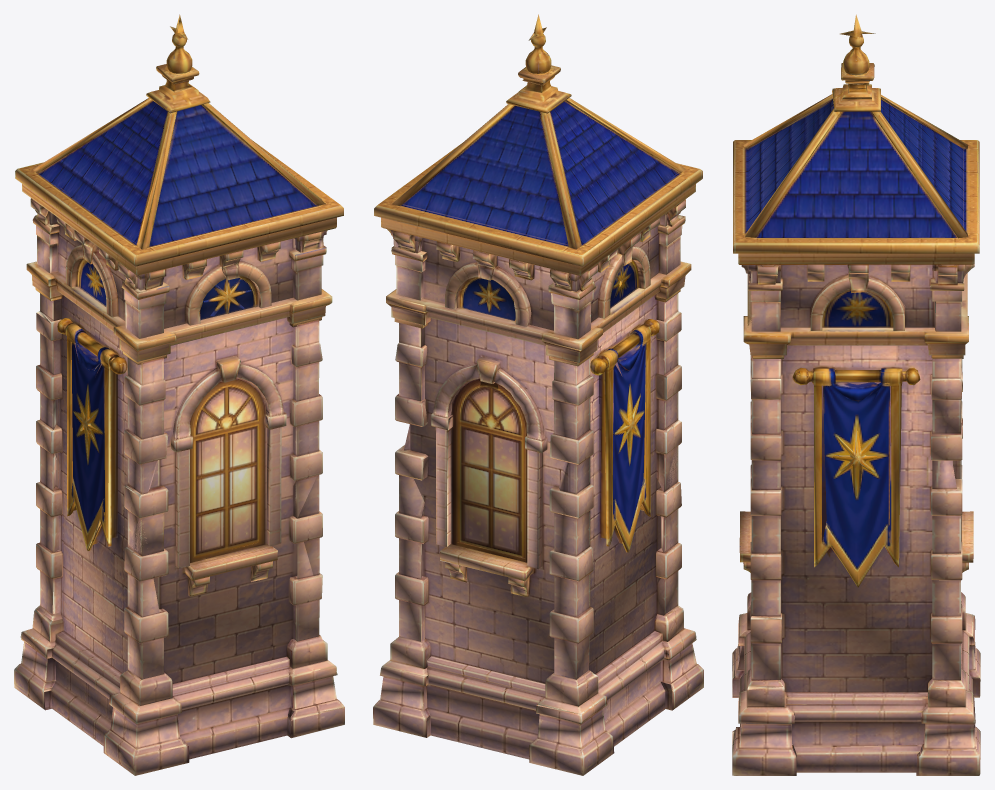
Rendered from gate-tower.glb.
3 renders of one model, left to right at view 1: azimuth 30°, elevation 25°; view 2: azimuth 150°, elevation 25°; view 3: azimuth 270°, elevation 25°, orthographic. The views are drawn at different scales.
Parts seen in each view (by area): view 1: Mesh_0; view 2: Mesh_0; view 3: Mesh_0.
Boxes of the visible parts, x1,y1,x2,y2 form: Mesh_0: [14, 14, 344, 775]; Mesh_0: [373, 14, 703, 775]; Mesh_0: [732, 14, 980, 775].
Bounding box in the file's own units: 3 × 9.44 × 2.99.
Materials: 1 (1 with a texture image).
